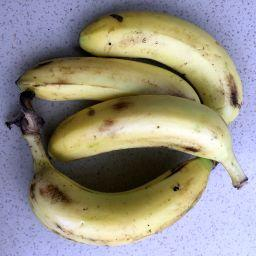banana: (2, 85, 221, 248), (43, 91, 250, 193), (75, 8, 247, 130), (11, 53, 206, 111)
